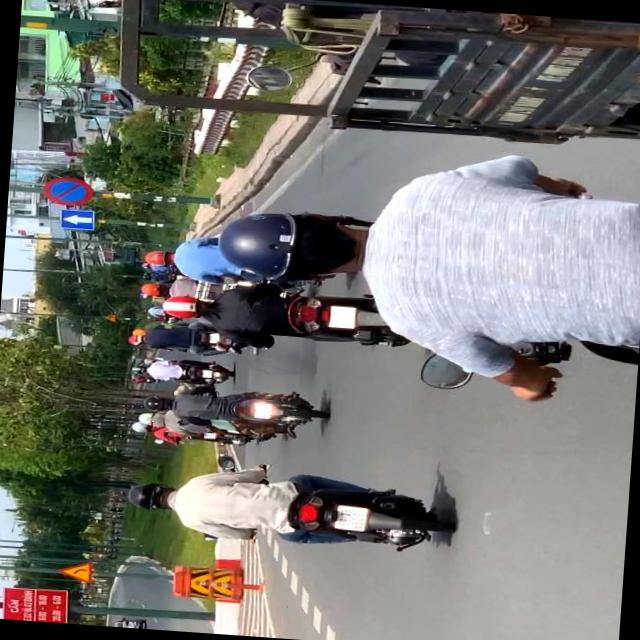I-407a: (58, 206, 94, 230)
P-131a: (40, 177, 94, 206)
W-201a: (56, 559, 94, 582)
